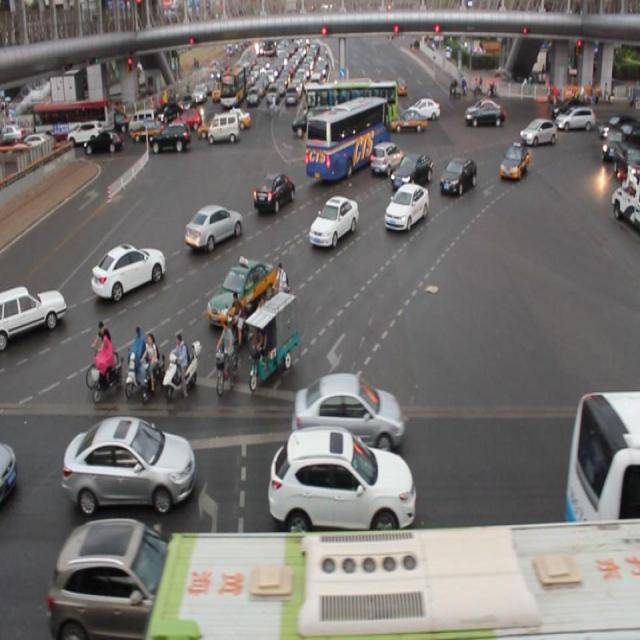car: (48, 520, 196, 634), (268, 426, 416, 530), (61, 410, 197, 512), (292, 371, 404, 450), (206, 254, 279, 330), (92, 240, 166, 303), (1, 281, 67, 348), (597, 398, 632, 512), (184, 201, 243, 251), (307, 194, 358, 250), (382, 182, 429, 233), (251, 173, 296, 215), (389, 148, 433, 189), (438, 155, 475, 197), (497, 140, 527, 181), (517, 116, 556, 147), (370, 141, 401, 173)
van: (152, 522, 640, 640), (562, 388, 640, 534), (307, 97, 388, 183)
